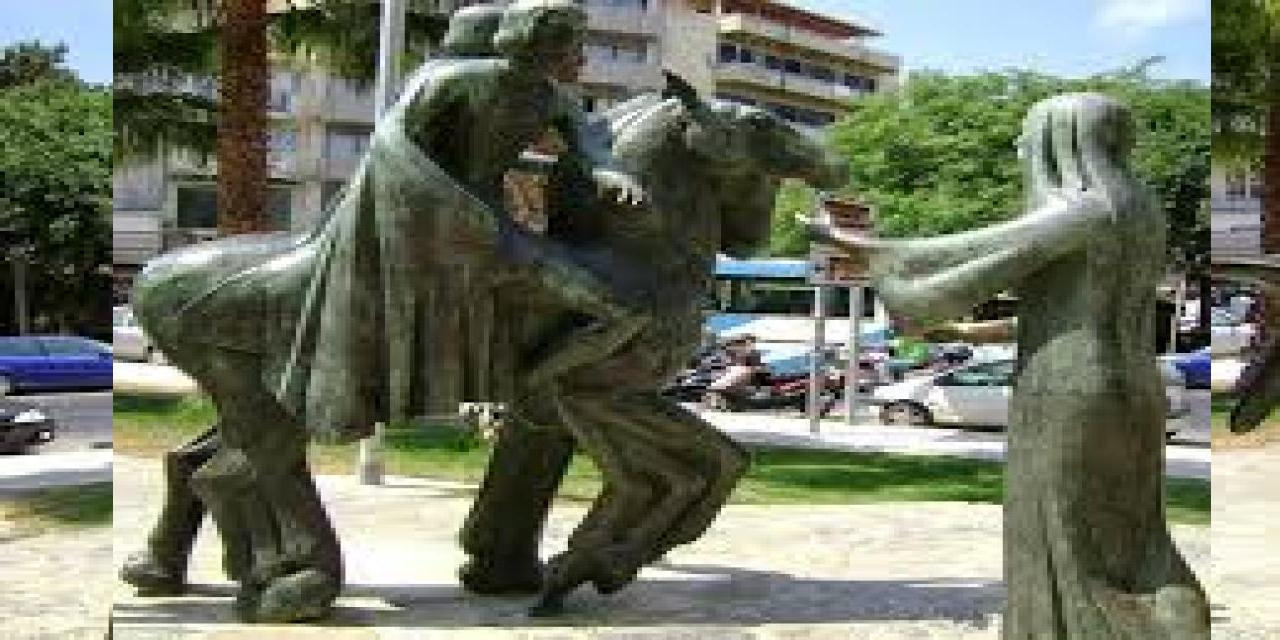Aretousa: (114, 1, 1212, 640)
